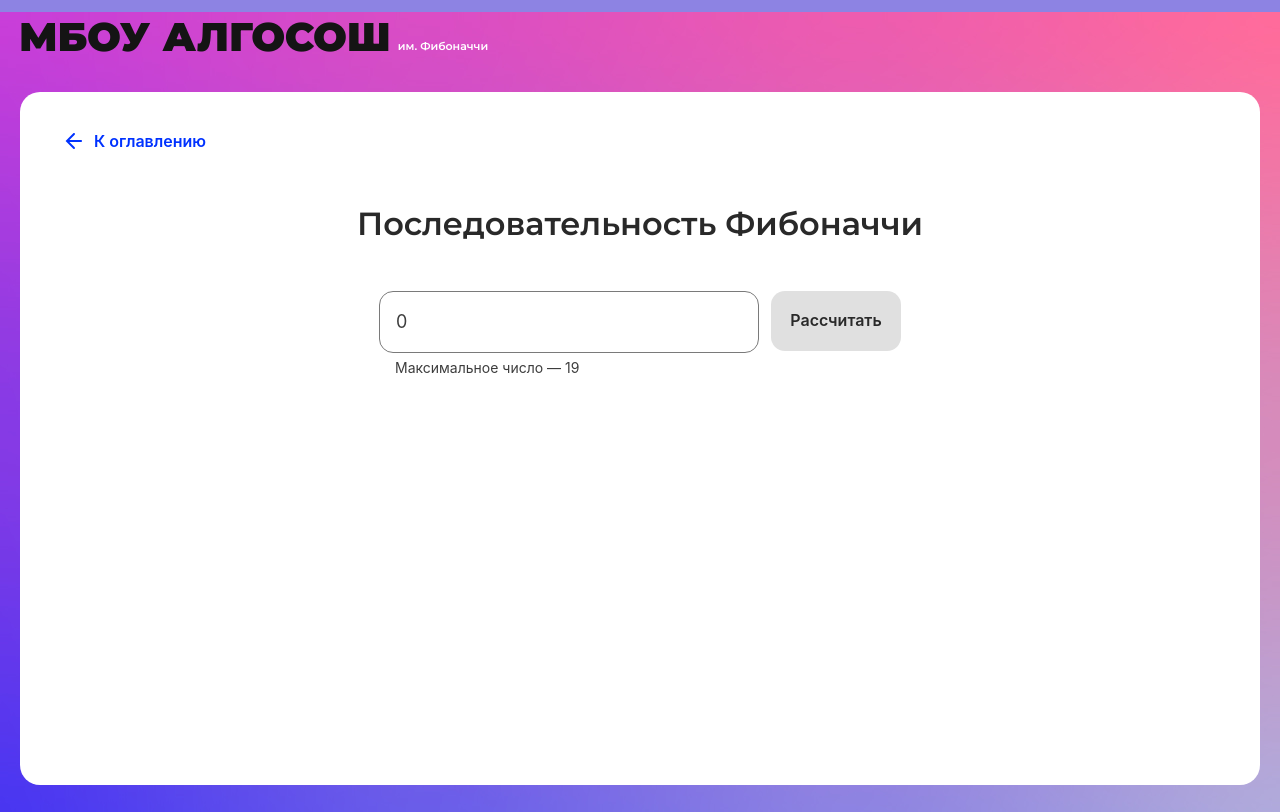
Test: Проверка Фибоначчи › Кнопка разблокирована (Инпут заполнен)
Type "5" into the number field. click: x=569, y=322
box: [379,291,759,353]
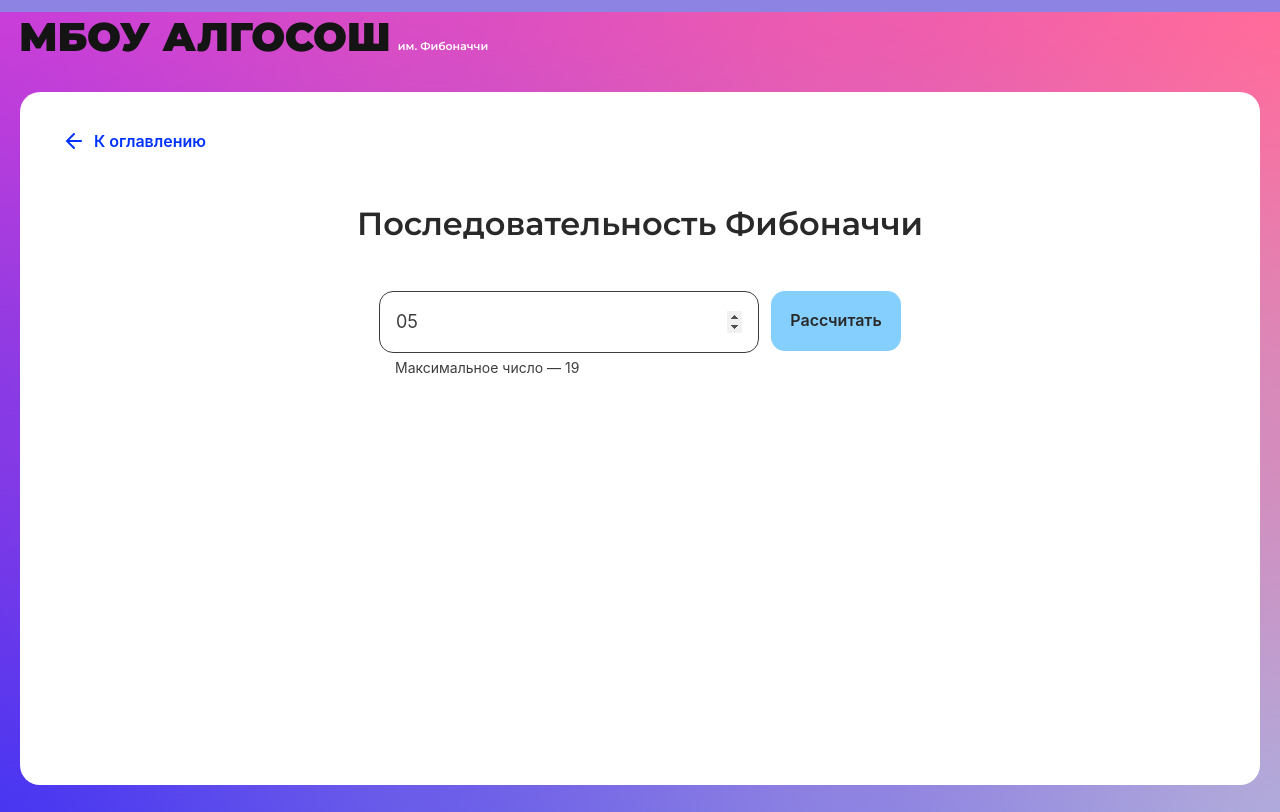
Expected: the button "Рассчитать" is enabled, [771,291,901,351]
